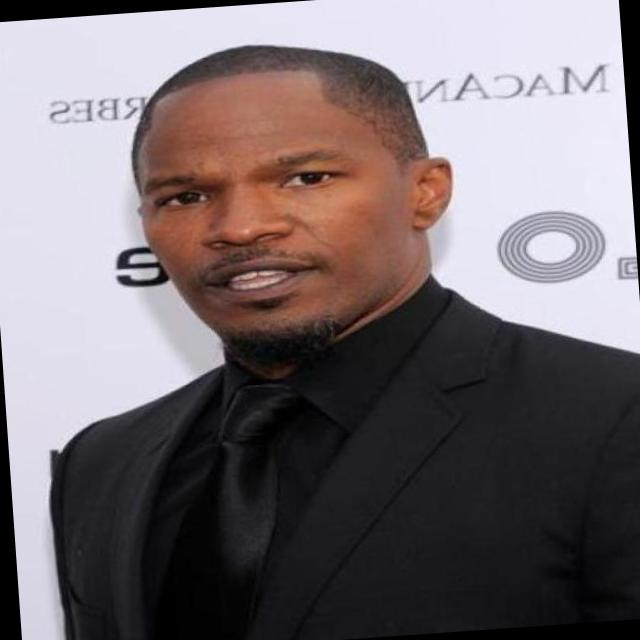bareface: (142, 16, 456, 360)
